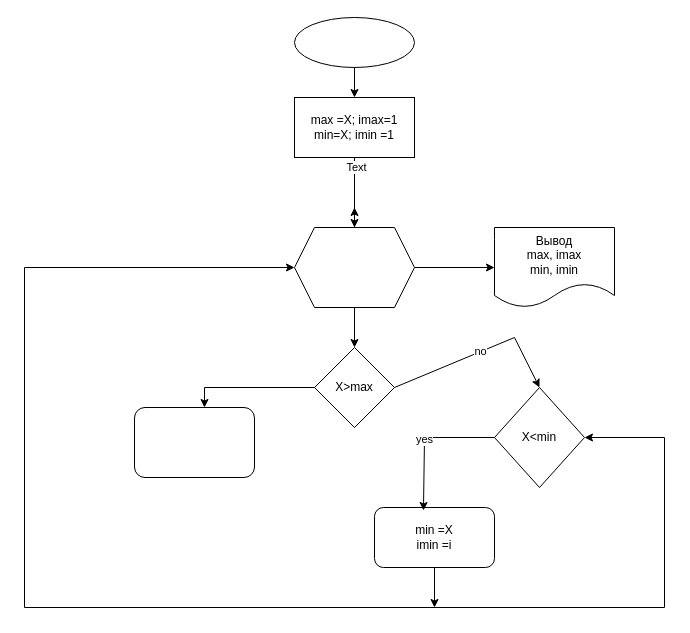
Some shapes in this 690 by 633 pixel diagram are drawn without their labels. The box of each missing label's shape, as (x1, y1, x2, y2) in pixels:
i=2, N: (294, 226, 414, 308)
max=X imax =i: (134, 406, 254, 478)
Старт: (294, 16, 414, 68)
